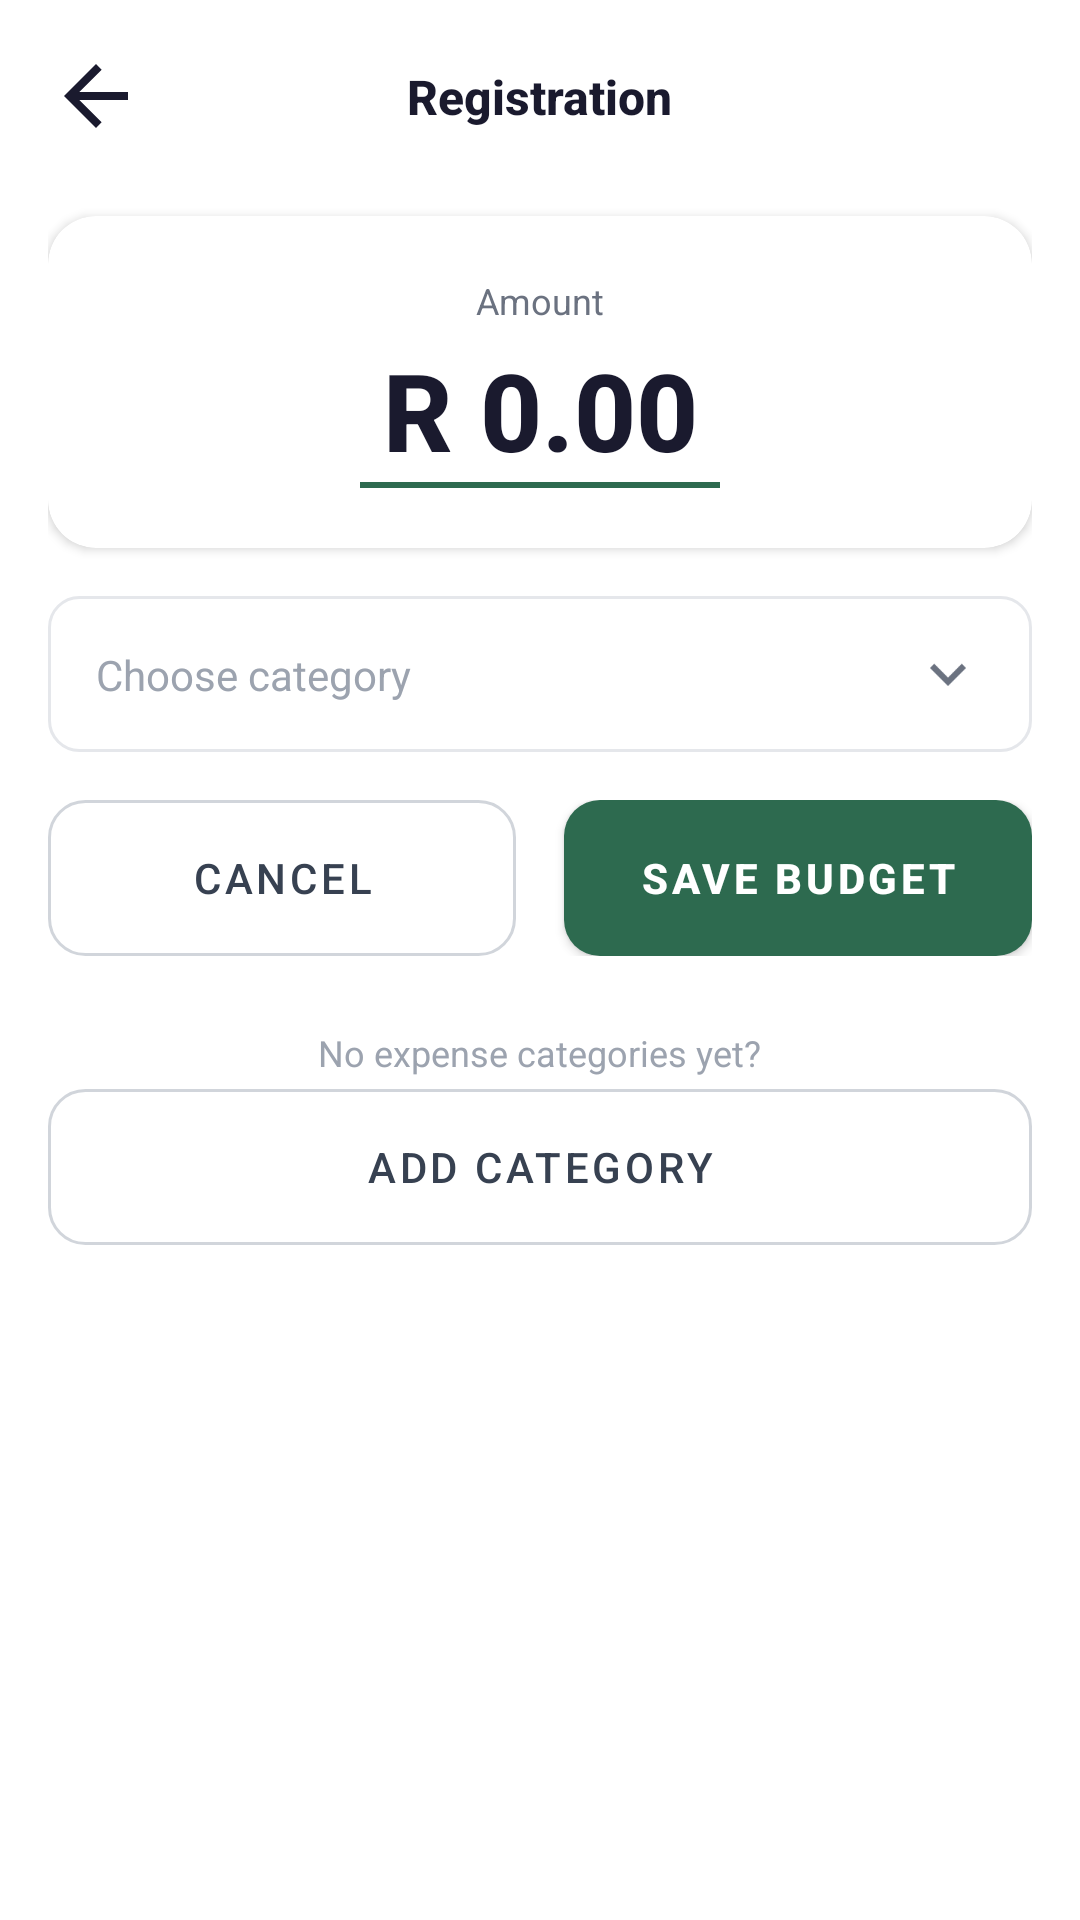

Where to tap for icons on this 1080px x 1920px app screen, as point (x, y):
Back: point (96, 96)
chevron down: point (948, 675)
